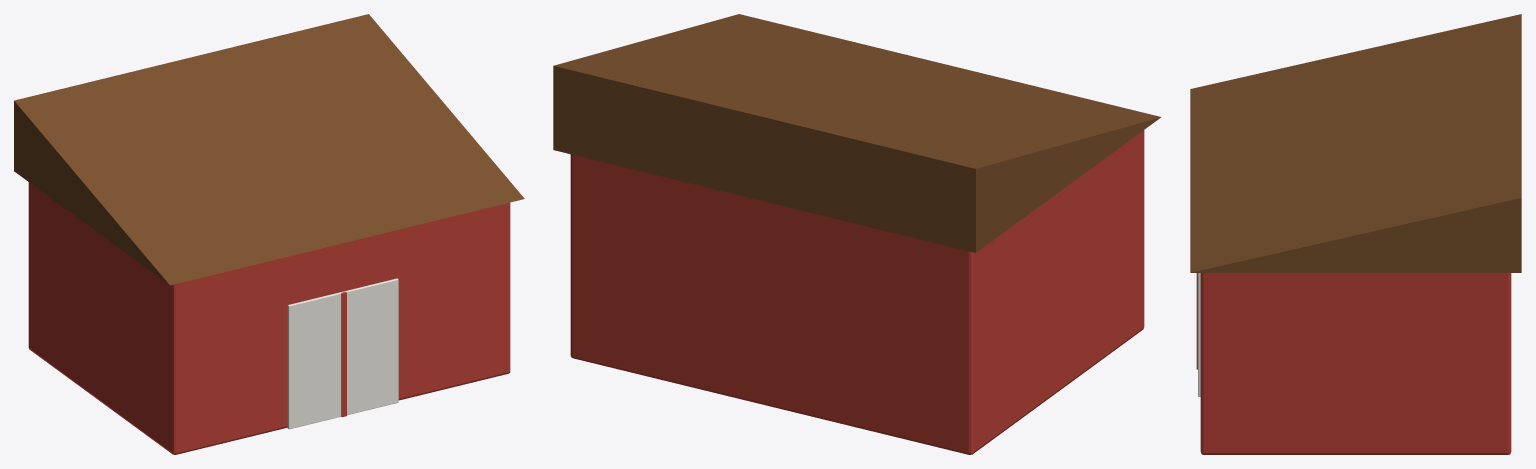
The model's file is Horse_Barn.fbx.
3 views of the same model, side by side, from view 1: azimuth 30°, elevation 25°; view 2: azimuth 150°, elevation 25°; view 3: azimuth 270°, elevation 25° (orthographic). The views are drawn at different scales.
Parts seen in each view (by area): view 1: Barn; view 2: Barn; view 3: Barn.
Part boxes in pixels (bbox=[...]): Barn: bbox=[14, 14, 524, 454]; Barn: bbox=[553, 14, 1161, 454]; Barn: bbox=[1190, 14, 1521, 454].
Bounding box in the file's own units: 8.4 × 5.6 × 6.4.
